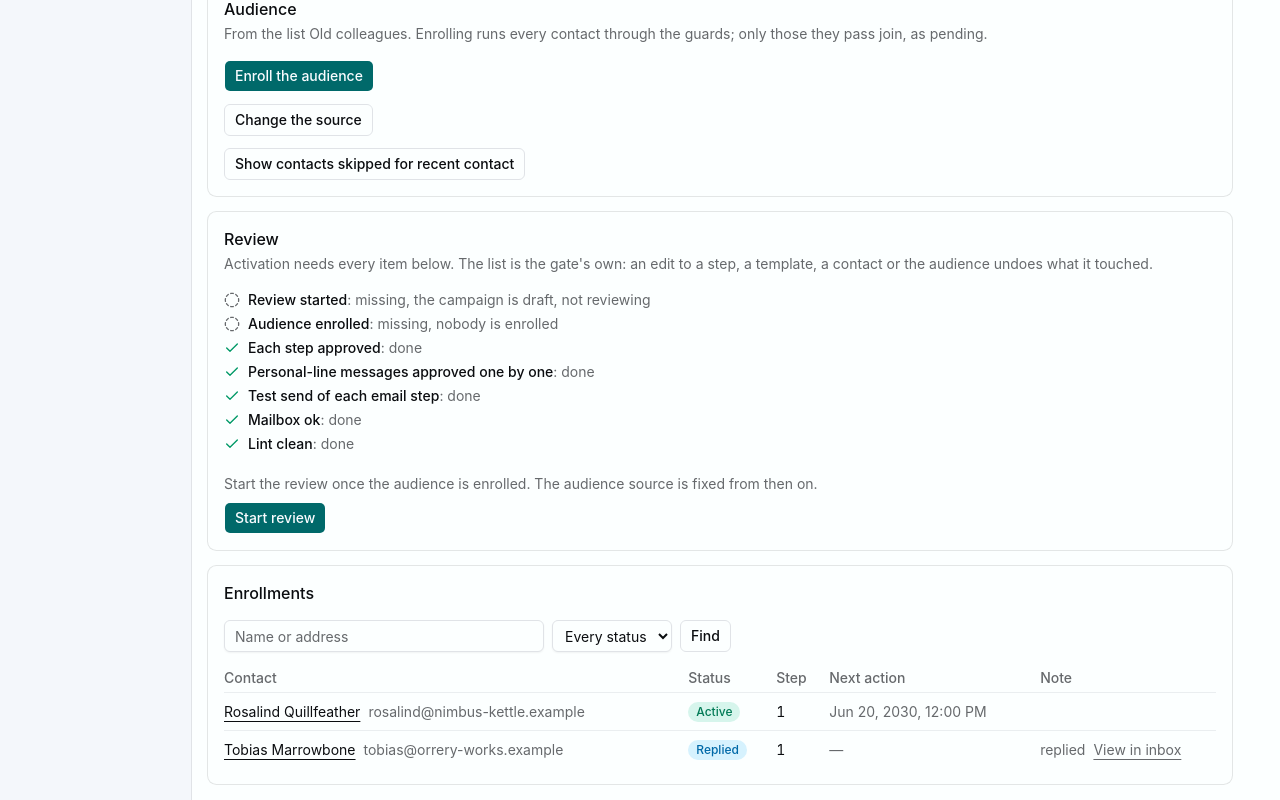
Scenario: review flow › starts the review of a draft, and shows why it will not
The image size is (1280, 800).
(page scrolled)
Expected: the text ": missing, nobody is enrolled" is shown, [369, 315, 558, 332]
Click the button "Start review" at point(275, 518), box [224, 502, 326, 534]
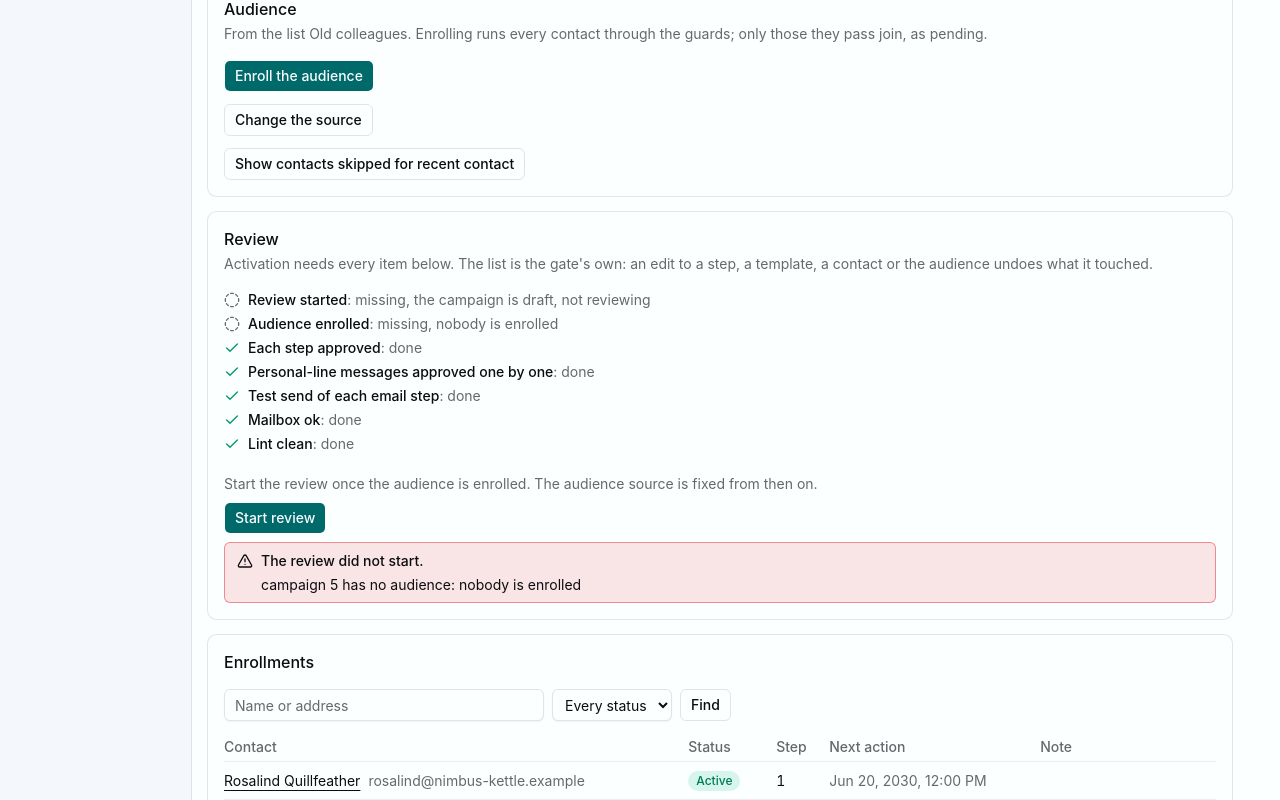
Expected: the text "campaign 5 has no audience: nobody is enrolled" is shown, [261, 575, 581, 594]
